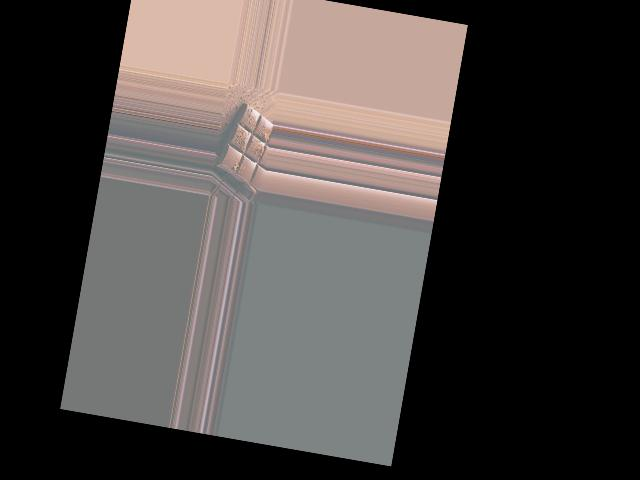chocolate: (214, 96, 276, 191)
